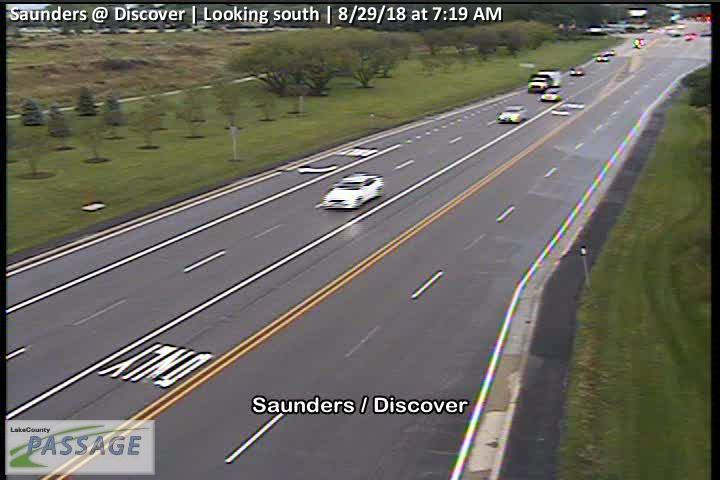Sedan: (323, 173, 384, 210), (497, 106, 528, 124), (541, 87, 565, 101), (569, 66, 584, 75), (597, 54, 608, 61), (604, 48, 614, 54)
Truck: (527, 69, 560, 92)
